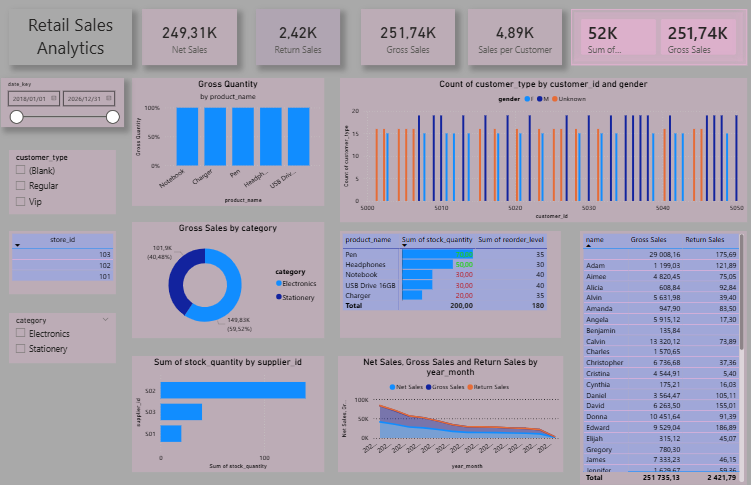

This screenshot's page, from the dashboard's own definition file:
{"tool":"powerbi","page":{"name":"Page 1","canvas":[1400,900],"ordinal":0},"visuals":[{"type":"card","fields":{"Values":["dim_customer.Net Sales"]},"box":[266.7,18.5,175.9,103.7],"z":0},{"type":"card","fields":{"Values":["dim_customer.Return Sales"]},"box":[477.8,18.5,155.6,103.7],"z":1000},{"type":"card","fields":{"Values":["dim_customer.Gross Sales"]},"box":[672.2,18.5,174.1,103.7],"z":2000},{"type":"card","fields":{"Values":["dim_customer.Sales per Customer"]},"box":[870.4,18.5,174.1,103.7],"z":3000},{"type":"clusteredColumnChart","fields":{"Category":["fact_sales.customer_id"],"Y":["dim_customer.customer_type"],"Series":["dim_customer.gender"]},"box":[633.3,146.3,753.7,266.7],"z":4000},{"type":"tableEx","fields":{"Values":["dim_customer.name","dim_customer.Gross Sales","dim_customer.Return Sales"]},"box":[1077.8,429.6,309.3,470.4],"z":5000},{"type":"hundredPercentStackedColumnChart","fields":{"Category":["dim_products.product_name"],"Y":["dim_customer.Gross Quantity"]},"box":[248.1,146.3,355.6,237],"z":6000},{"type":"donutChart","fields":{"Category":["dim_products.category"],"Y":["dim_customer.Gross Sales"]},"box":[248.1,413,355.6,214.8],"z":7000},{"type":"pivotTable","fields":{"Rows":["dim_products.product_name"],"Values":["dim_inventory.stock_quantity","dim_inventory.reorder_level"]},"box":[633.3,429.6,409.3,198.1],"z":7001},{"type":"barChart","fields":{"Category":["dim_inventory.supplier_id"],"Y":["dim_inventory.stock_quantity"]},"box":[248.1,661.1,355.6,214.8],"z":7002},{"type":"stackedAreaChart","fields":{"Category":["dim_date.year_month"],"Y":["dim_customer.Net Sales","dim_customer.Gross Sales","dim_customer.Return Sales"]},"box":[629.6,661.1,416.7,214.8],"z":7003},{"type":"cardVisual","fields":{"Data":["dim_date.day_of_month","dim_customer.Gross Sales"]},"box":[1061.1,18.5,325.9,103.7],"z":7004},{"type":"slicer","fields":{"Values":["dim_date.date_key"]},"box":[5.6,146.3,227.8,90.7],"z":7005},{"type":"slicer","fields":{"Values":["dim_customer.customer_type"]},"box":[20.4,279.6,198.1,118.5],"z":7006},{"type":"tableEx","fields":{"Values":["fact_sales.store_id"]},"box":[20.4,429.6,198.1,116.7],"z":7007},{"type":"slicer","fields":{"Values":["dim_products.category"]},"box":[20.4,581.5,198.1,92.6],"z":7008},{"type":"textbox","box":[20.4,18.5,227.8,103.7],"z":7009}]}

Visuals, with their boxes in screenshot pixels (x1, y1, x2, y2), scaled from the page's 1400x900 canvas onto the 751x485 screenshot:
card - dim_customer.Net Sales: left=143, top=10, right=237, bottom=66
card - dim_customer.Return Sales: left=256, top=10, right=340, bottom=66
card - dim_customer.Gross Sales: left=361, top=10, right=454, bottom=66
card - dim_customer.Sales per Customer: left=467, top=10, right=560, bottom=66
clusteredColumnChart - fact_sales.customer_id x dim_customer.customer_type: left=340, top=79, right=744, bottom=223
tableEx - dim_customer.name x dim_customer.Gross Sales: left=578, top=232, right=744, bottom=484
hundredPercentStackedColumnChart - dim_products.product_name x dim_customer.Gross Quantity: left=133, top=79, right=324, bottom=207
donutChart - dim_products.category x dim_customer.Gross Sales: left=133, top=223, right=324, bottom=338
pivotTable - dim_products.product_name x dim_inventory.stock_quantity: left=340, top=232, right=559, bottom=338
barChart - dim_inventory.supplier_id x dim_inventory.stock_quantity: left=133, top=356, right=324, bottom=472
stackedAreaChart - dim_date.year_month x dim_customer.Net Sales: left=338, top=356, right=561, bottom=472
cardVisual - dim_date.day_of_month x dim_customer.Gross Sales: left=569, top=10, right=744, bottom=66
slicer - dim_date.date_key: left=3, top=79, right=125, bottom=128
slicer - dim_customer.customer_type: left=11, top=151, right=117, bottom=215
tableEx - fact_sales.store_id: left=11, top=232, right=117, bottom=294
slicer - dim_products.category: left=11, top=313, right=117, bottom=363
textbox: left=11, top=10, right=133, bottom=66
